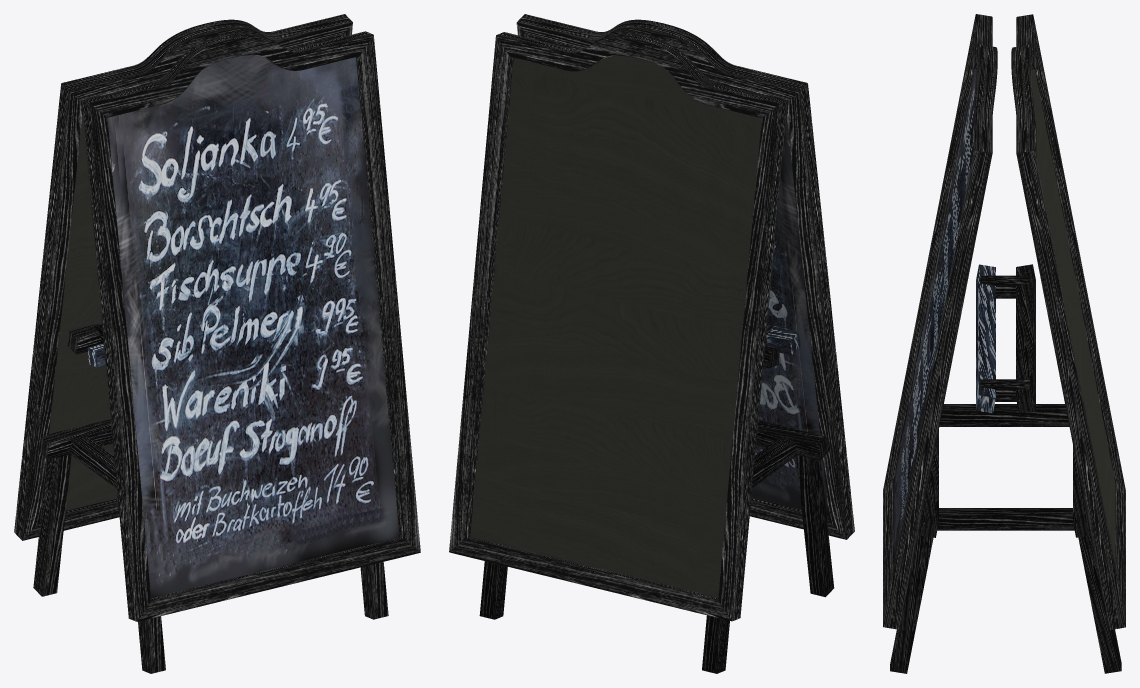
Rendered from menu.obj.
3 views of the same model, side by side, from view 1: azimuth 30°, elevation 25°; view 2: azimuth 150°, elevation 25°; view 3: azimuth 270°, elevation 25° (orthographic).
Visible parts, largest first — view 1: Object353, Rectangle1321, Rectangle1316, Object352, Rectangle1320, Rectangle1318, Rectangle1323, Rectangle1324, Rectangle1328, Rectangle1317; view 2: Object352, Rectangle1316, Rectangle1321, Object353, Rectangle1324, Rectangle1322, Rectangle1320, Rectangle1319, Rectangle1328, Rectangle1325; view 3: Rectangle1316, Rectangle1321, Object353, Object352, Rectangle1329, Rectangle1317, Rectangle1325, Rectangle1328, Rectangle1323, Rectangle1319, Rectangle1322, Rectangle1318 (+2 smaller).
Part boxes in pixels (box(x1,y1,x2,y2)): Object353: box(107, 55, 399, 597); Rectangle1321: box(82, 31, 420, 621); Rectangle1316: box(14, 14, 352, 540); Object352: box(40, 70, 169, 516); Rectangle1320: box(33, 454, 71, 596); Rectangle1318: box(39, 419, 112, 459); Rectangle1323: box(360, 562, 388, 619); Rectangle1324: box(138, 616, 165, 673); Rectangle1328: box(71, 436, 116, 488); Rectangle1317: box(67, 323, 101, 354); Object352: box(470, 55, 761, 597); Rectangle1316: box(449, 32, 787, 621); Rectangle1321: box(516, 14, 854, 539); Object353: box(697, 68, 828, 515); Rectangle1324: box(796, 455, 834, 597); Rectangle1322: box(756, 420, 828, 460); Rectangle1320: box(702, 615, 729, 673); Rectangle1319: box(479, 561, 507, 619); Rectangle1328: box(752, 437, 796, 487); Rectangle1325: box(766, 324, 800, 355); Rectangle1316: box(1011, 14, 1125, 629); Rectangle1321: box(883, 14, 997, 629); Object353: box(893, 69, 977, 565); Object352: box(1031, 69, 1115, 565); Rectangle1329: box(937, 508, 1074, 530); Rectangle1317: box(1016, 264, 1035, 412); Rectangle1325: box(976, 264, 995, 413); Rectangle1328: box(939, 404, 1069, 426); Rectangle1323: box(890, 533, 933, 673); Rectangle1319: box(1078, 535, 1121, 673); Rectangle1322: box(919, 430, 938, 537); Rectangle1318: box(1073, 445, 1090, 537).
Bounding box in the file's own units: 12.63 × 24.32 × 9.49.
Materials: 3 (3 with a texture image).
